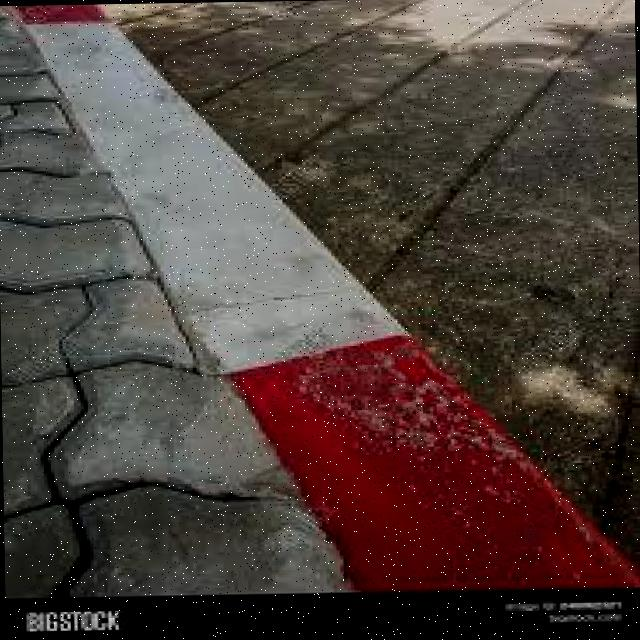curb: (205, 305, 611, 592), (99, 154, 339, 351), (16, 7, 173, 146)
